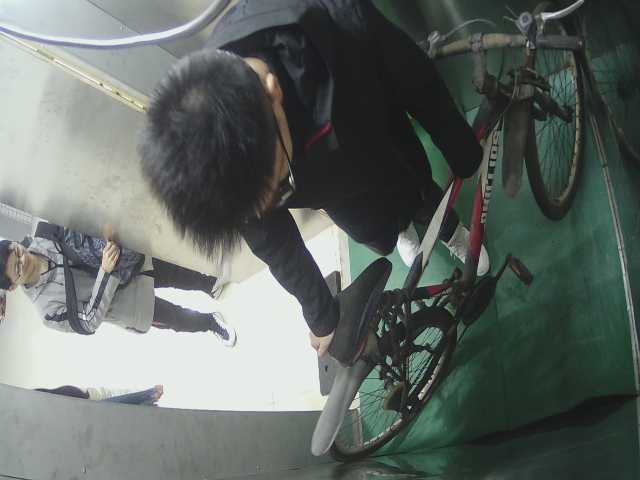bicycle: (308, 1, 597, 465)
person: (137, 1, 493, 278), (1, 212, 240, 351)
